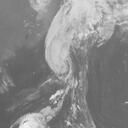cyclone: (44, 33, 83, 86), (14, 112, 50, 127)
